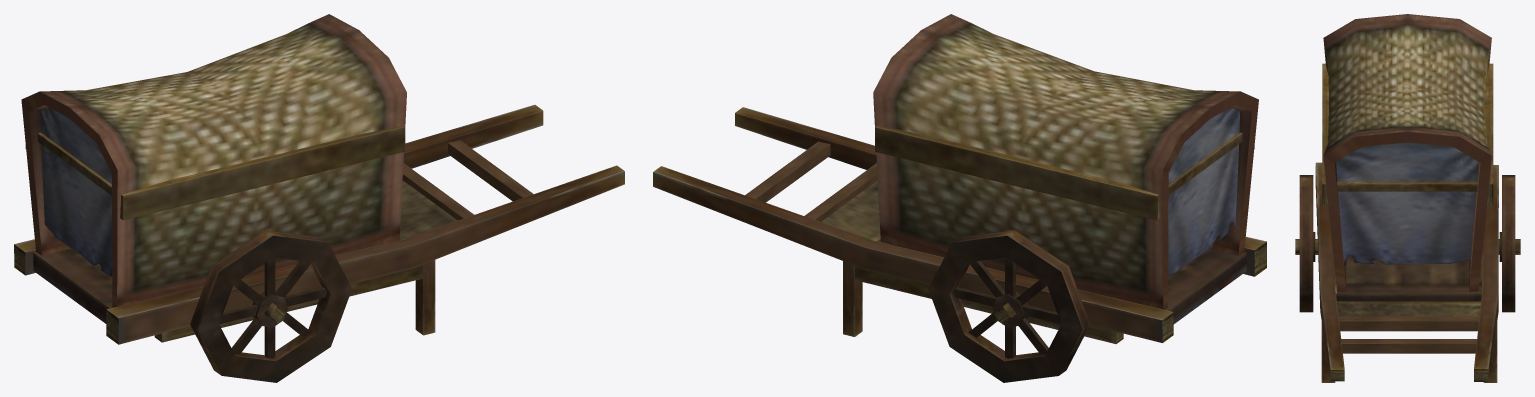
File: ZW_crylylhmc.FBX
3 renders of one model, left to right at view 1: azimuth 30°, elevation 25°; view 2: azimuth 150°, elevation 25°; view 3: azimuth 270°, elevation 25°, orthographic. The views are drawn at different scales.
Visible parts, largest first — view 1: ZW_crylylhmc; view 2: ZW_crylylhmc; view 3: ZW_crylylhmc.
Part boxes in pixels (x1=…): ZW_crylylhmc: x1=14, y1=14, x2=624, y2=382; ZW_crylylhmc: x1=653, y1=14, x2=1266, y2=382; ZW_crylylhmc: x1=1295, y1=14, x2=1520, y2=382.
Bounding box in the file's own units: 428 × 217 × 185.
